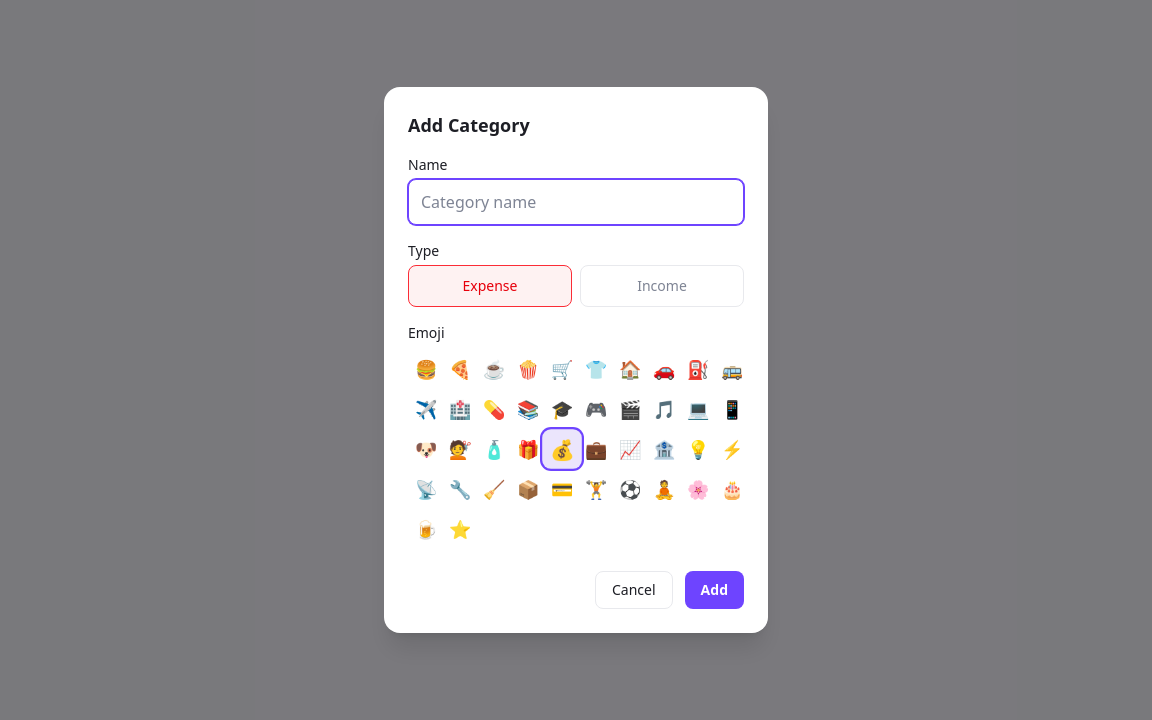
Test: CategoryModal › shows error when name is empty
Click the button "Add": (714, 590) [685,571,744,609]
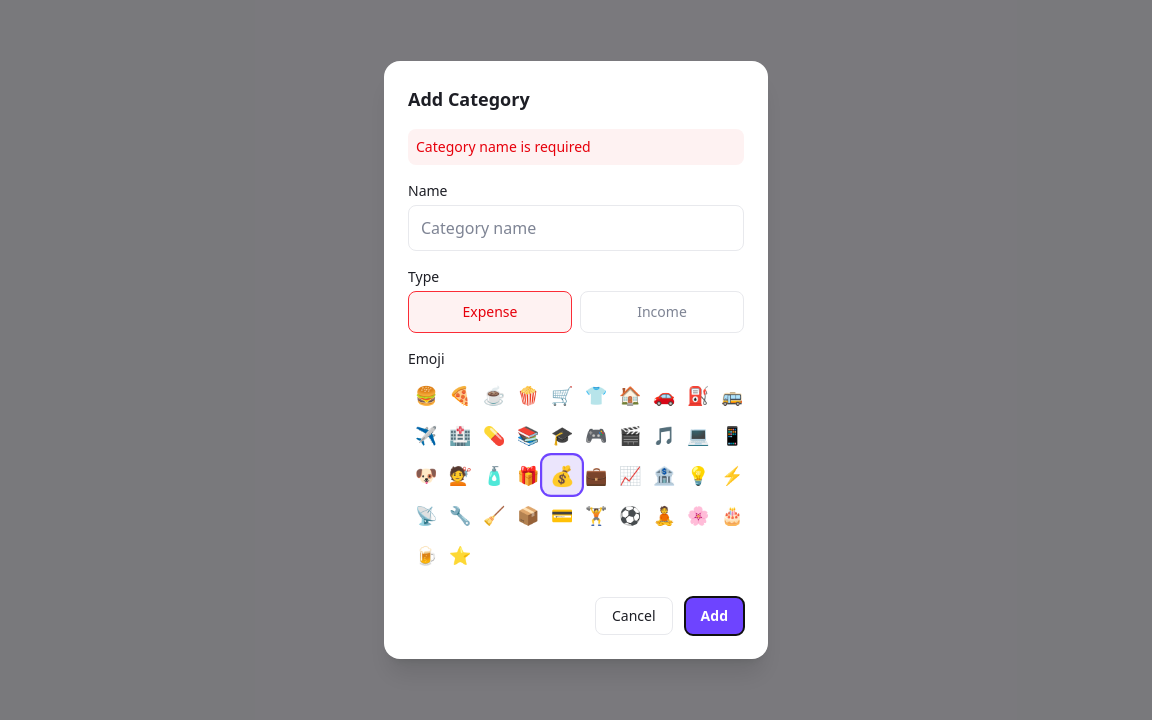
Check: the text "Category name is required" is shown, box [408,129,744,165]
